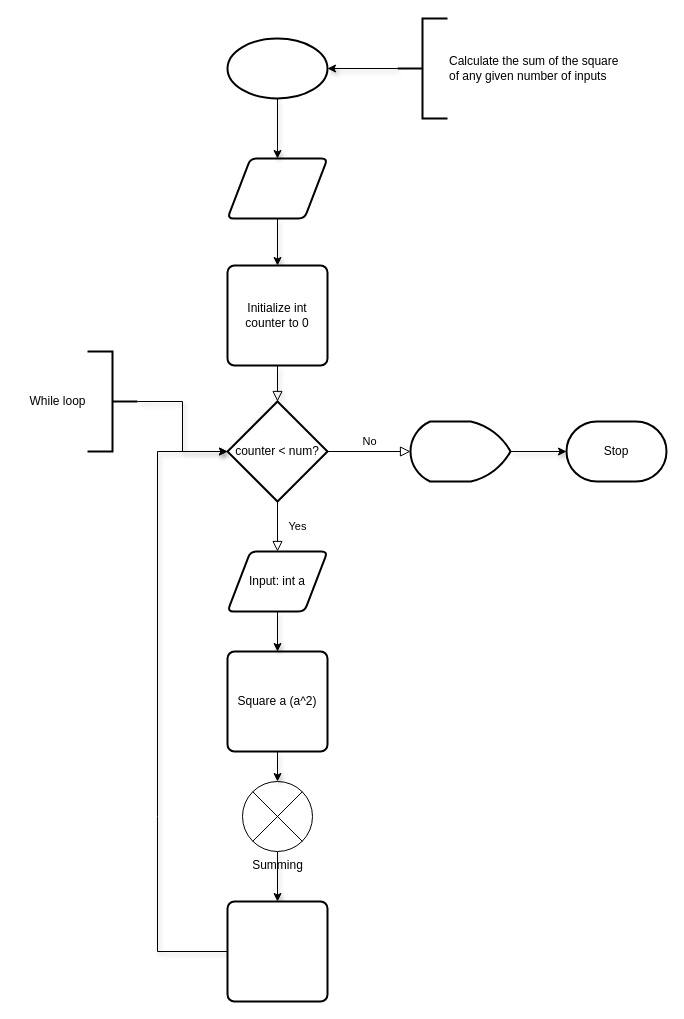
The diagram is 684 pixels wide and 1019 high, and some of its shapes have lost their labels. Each missing label, with the centre of its shape:
"Increment counter" belongs at pixel 277 951.
"Input: int num" belongs at pixel 277 188.
"Start" belongs at pixel 277 68.
"Sum" belongs at pixel 460 451.
